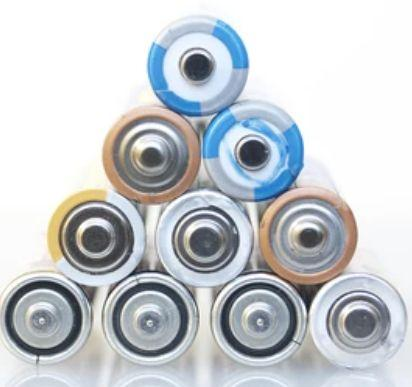battery: (144, 12, 253, 117), (202, 100, 305, 201), (101, 105, 201, 204), (308, 270, 407, 368), (257, 187, 357, 284), (155, 189, 253, 287), (48, 190, 146, 287), (210, 271, 309, 365), (101, 271, 199, 364), (0, 269, 93, 364)
